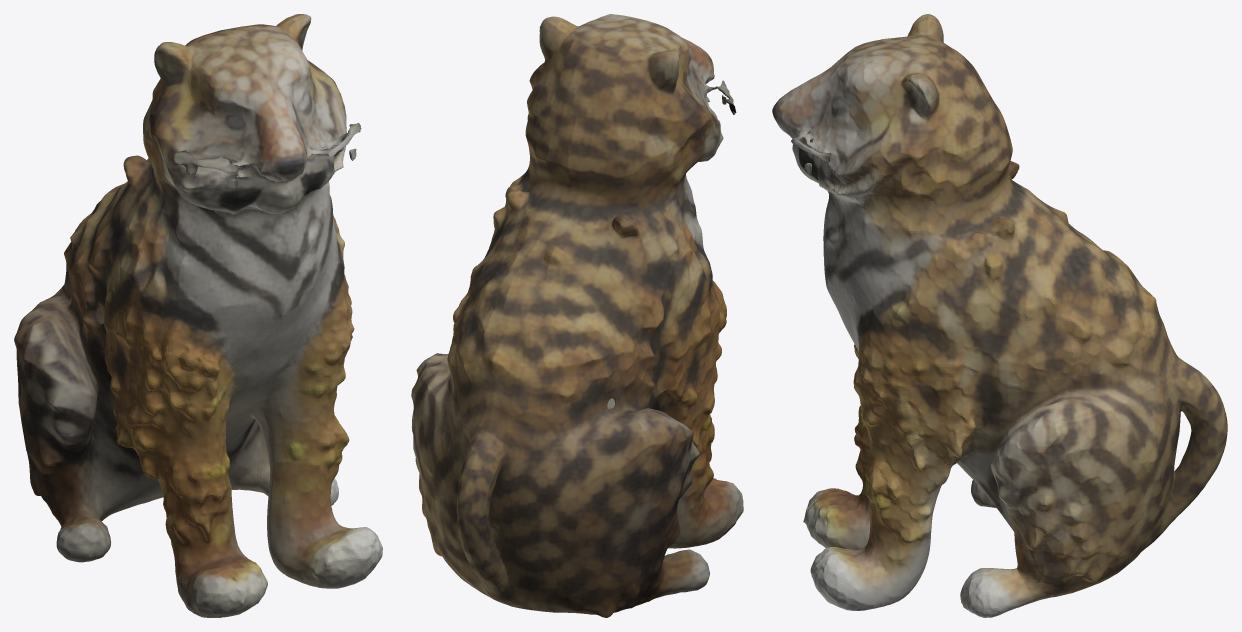
The model's file is stream3d.glb.
3 renders of one model, left to right at view 1: azimuth 30°, elevation 25°; view 2: azimuth 150°, elevation 25°; view 3: azimuth 270°, elevation 25°, orthographic. The views are drawn at different scales.
Visible parts, largest first — view 1: world; view 2: world; view 3: world.
Boxes of the visible parts, left/top/right/bottom form: world: left=14, top=14, right=382, bottom=617; world: left=411, top=14, right=743, bottom=617; world: left=772, top=14, right=1227, bottom=617.
Bounding box in the file's own units: 0.5553 × 0.9996 × 0.7893.
